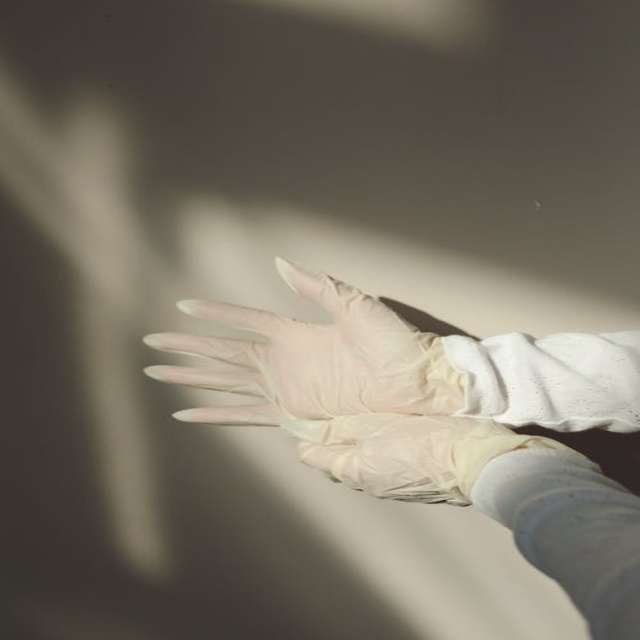Guantes: (137, 240, 483, 433), (274, 407, 602, 511)
